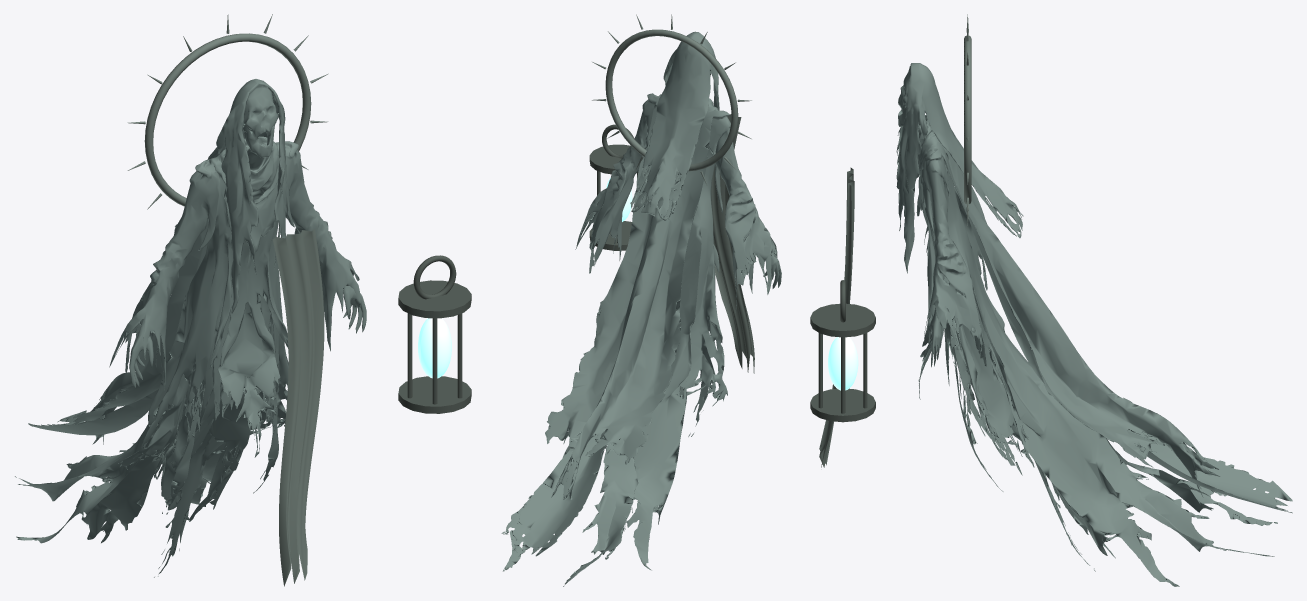
The model's file is 23-the-last-lantern.glb.
3 views of the same model, side by side, from view 1: azimuth 30°, elevation 25°; view 2: azimuth 150°, elevation 25°; view 3: azimuth 270°, elevation 25° (orthographic). The views are drawn at different scales.
Visible parts, largest first — view 1: sculpt (×4); view 2: sculpt (×3); view 3: sculpt (×4).
Boxes of the visible parts, bbox=[...] form: sculpt (×4): bbox=[15, 14, 471, 586]; sculpt (×3): bbox=[501, 14, 781, 586]; sculpt (×4): bbox=[810, 14, 1292, 586].
Size of the model in its own units: 1.9 by 3.87 by 3.09.
